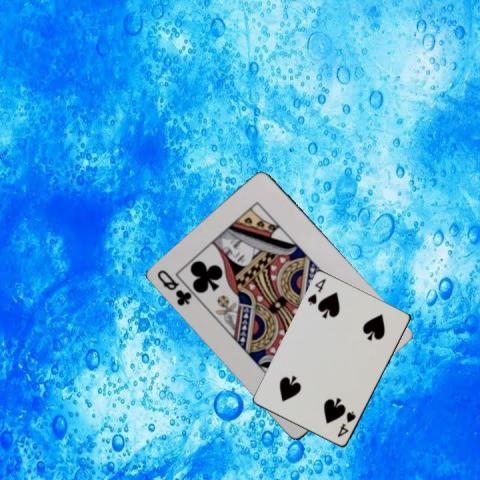4s: (334, 408, 357, 439), (305, 276, 327, 307)
Qc: (155, 267, 194, 307)
